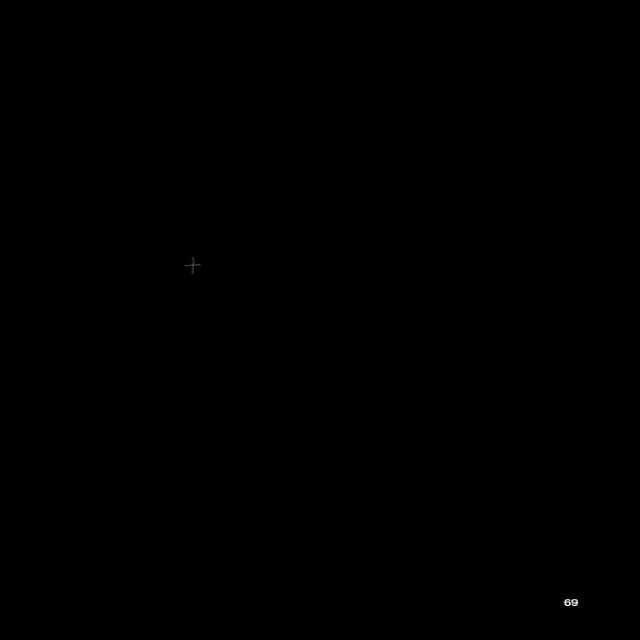10 -ten-: (180, 254, 204, 277)
